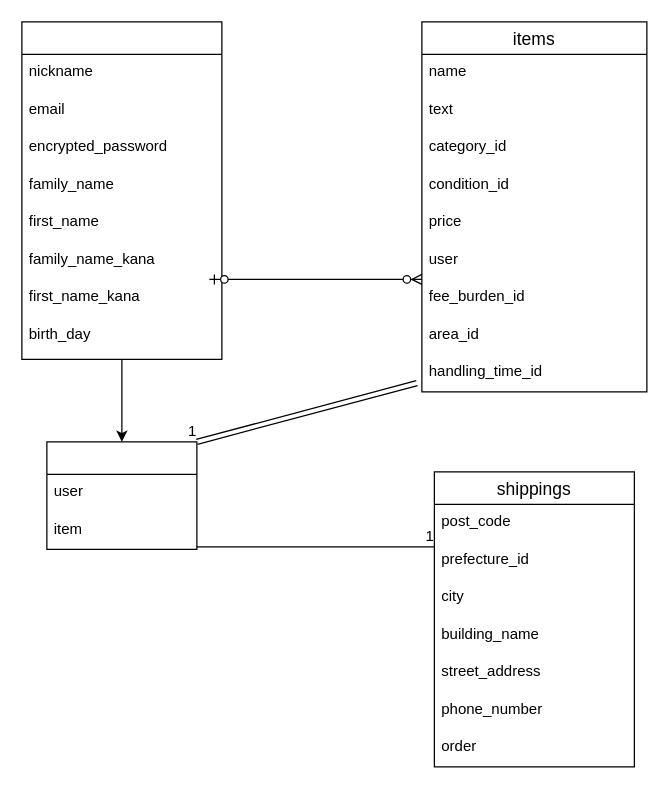
The diagram is 669 pixels wide and 793 high, and some of its shapes have lost their labels. The shapes that lost their labels are listed below. From the top down, each one's box as (x1, y1, x2, y2) in pixels, then its label:
(21, 21, 222, 359): users
(46, 441, 197, 549): orders
